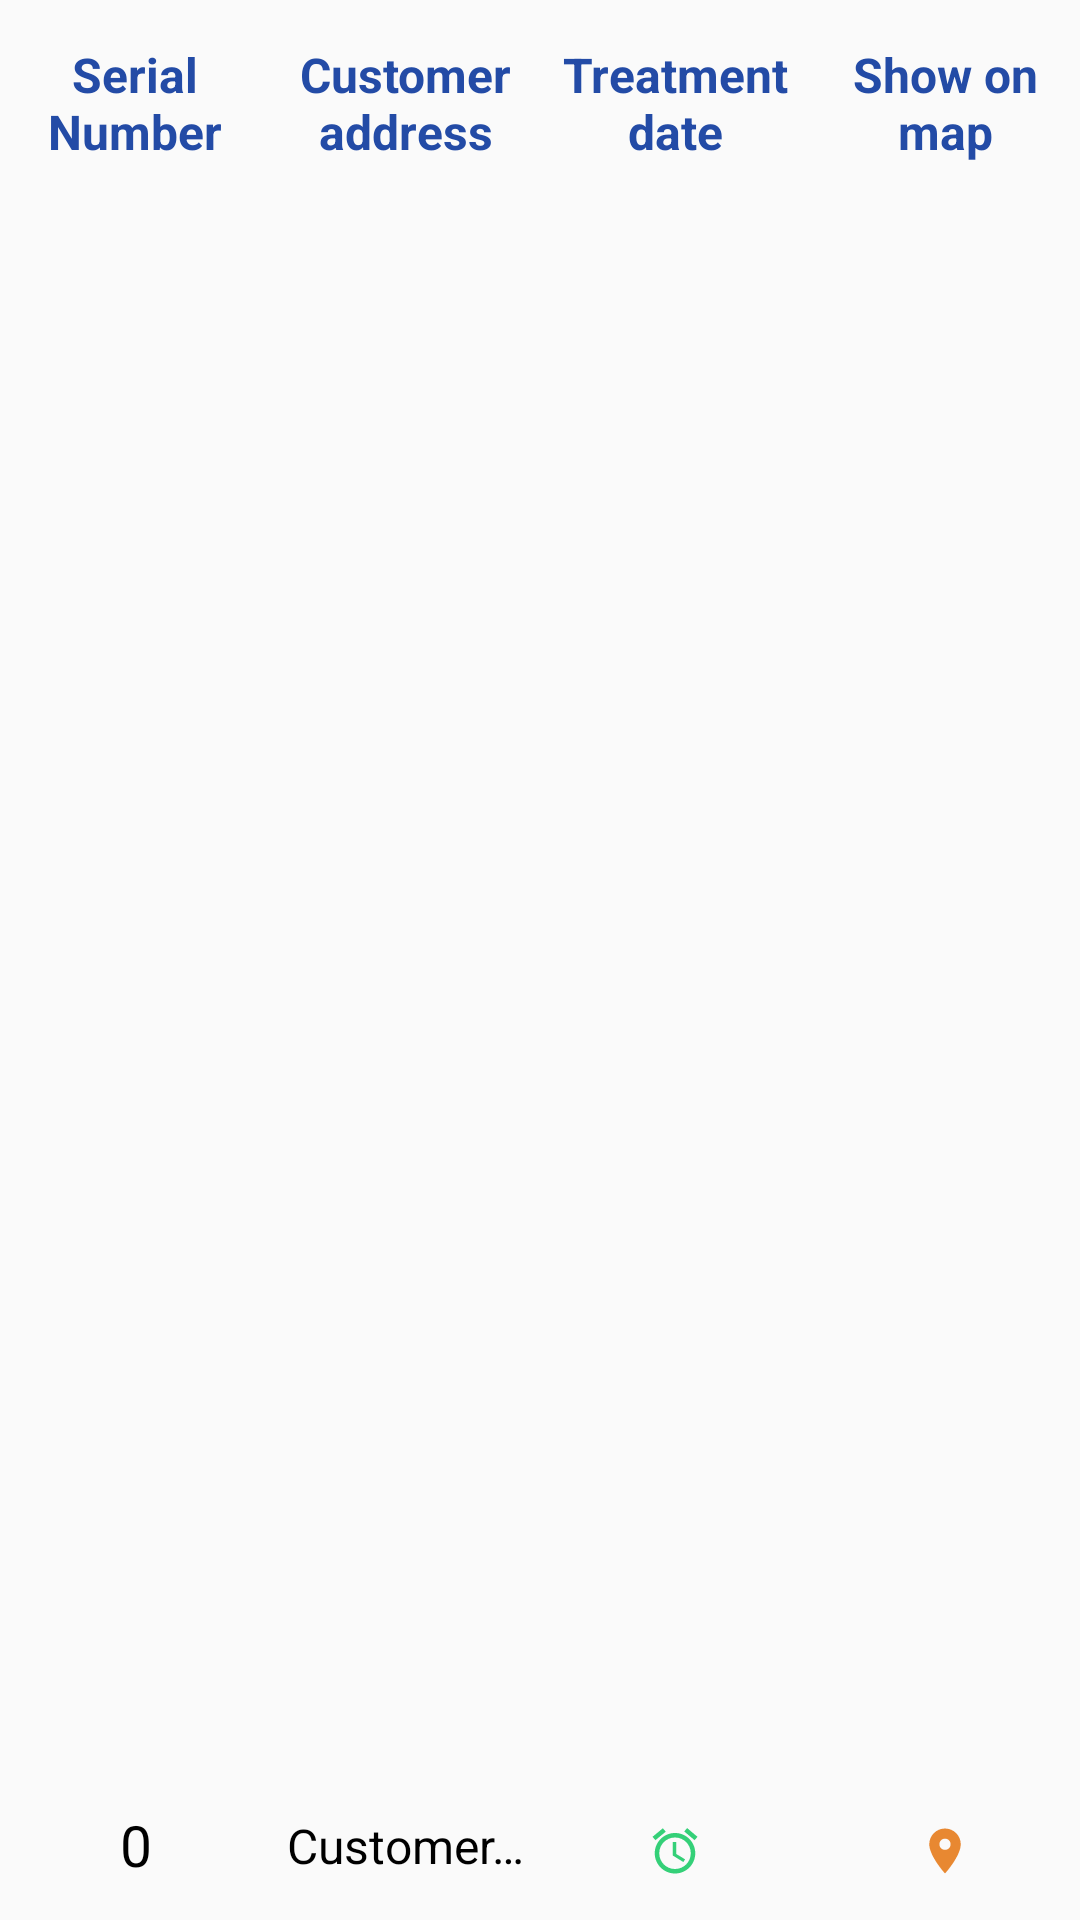

Icons on this 1080*1920 Android screen, each with its box as (x1, y1, x2, y2):
Show on map: (929, 1828, 961, 1873)
